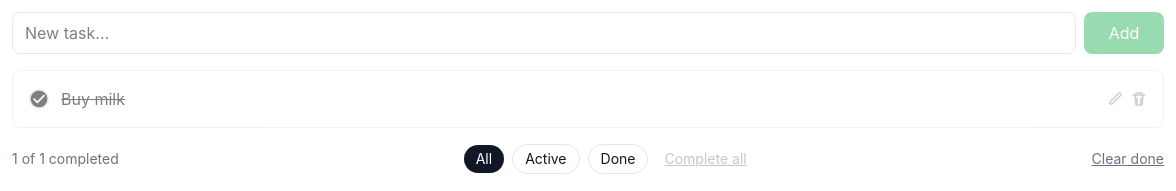
bulk action error feedback › shows "Failed to delete all tasks." when every task in Clear done fails
Expected: the text "Buy milk" is shown, [61,89,125,109]
Step 1. Click the button "Clear done" → [1128, 159], box [1092,149,1164,169]
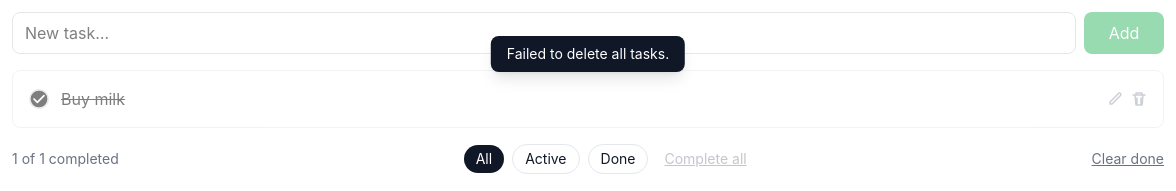
Expected: the message reads "Failed to delete all tasks.", [507,45,669,62]
